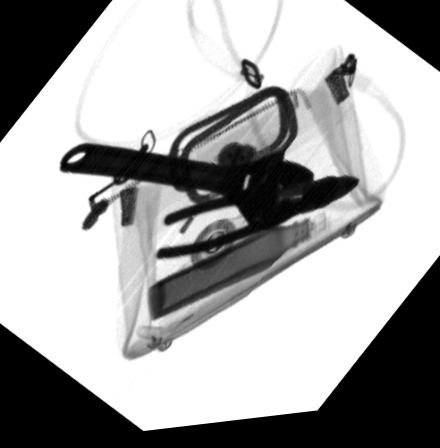Pliers: (156, 182, 360, 261)
Wrench: (59, 144, 315, 237)
